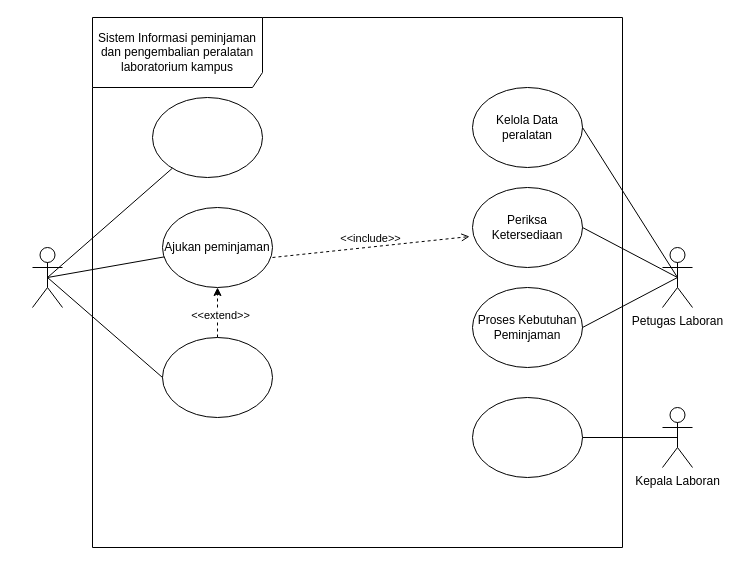
Image size: 740x565. Some labels were removed from this diagram. Here are the shapes that lost their labels. From the top down, the centre of each, then its label:
At [207,137]: "Lihat Ketersediaan peralatan".
At [47,277]: "Mahasiswa".
At [217,377]: "Cetak Bukti Pengajuan".
At [527,437]: "Melihat Laporan Peminjaman".
